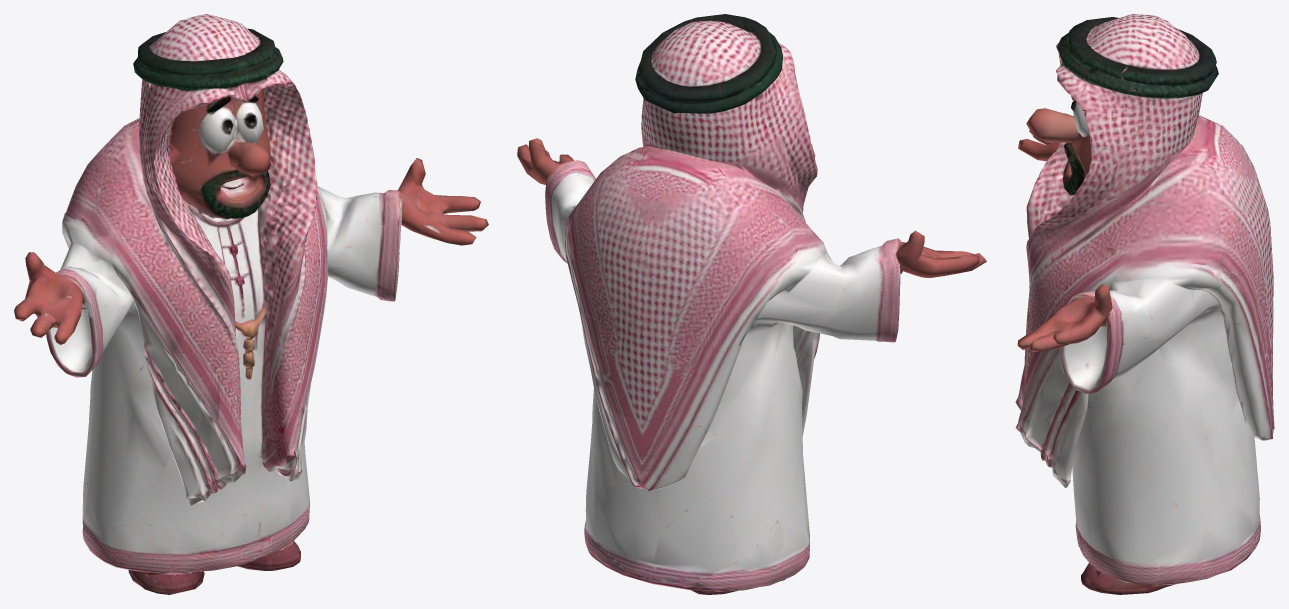
File: omar.glb
The picture shows the model from 3 angles, left to right: view 1: azimuth 30°, elevation 25°; view 2: azimuth 150°, elevation 25°; view 3: azimuth 270°, elevation 25°; orthographic projection.
Bounding box in the file's own units: 1.7 × 1.9 × 0.8252.
1 material, 1 textured.
